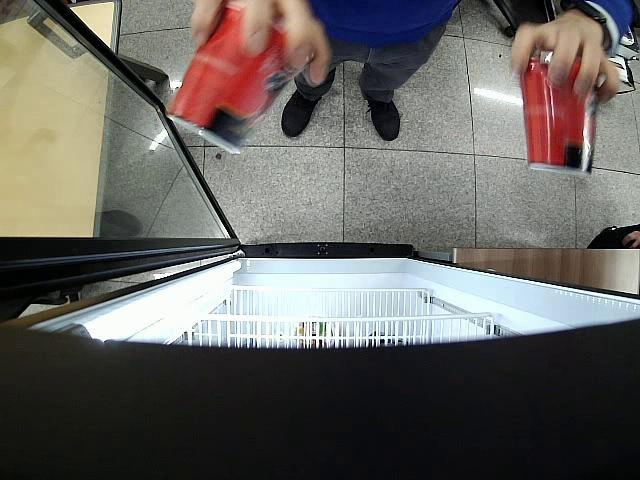02_shinRamen_S: (168, 7, 308, 153), (520, 57, 598, 179)
